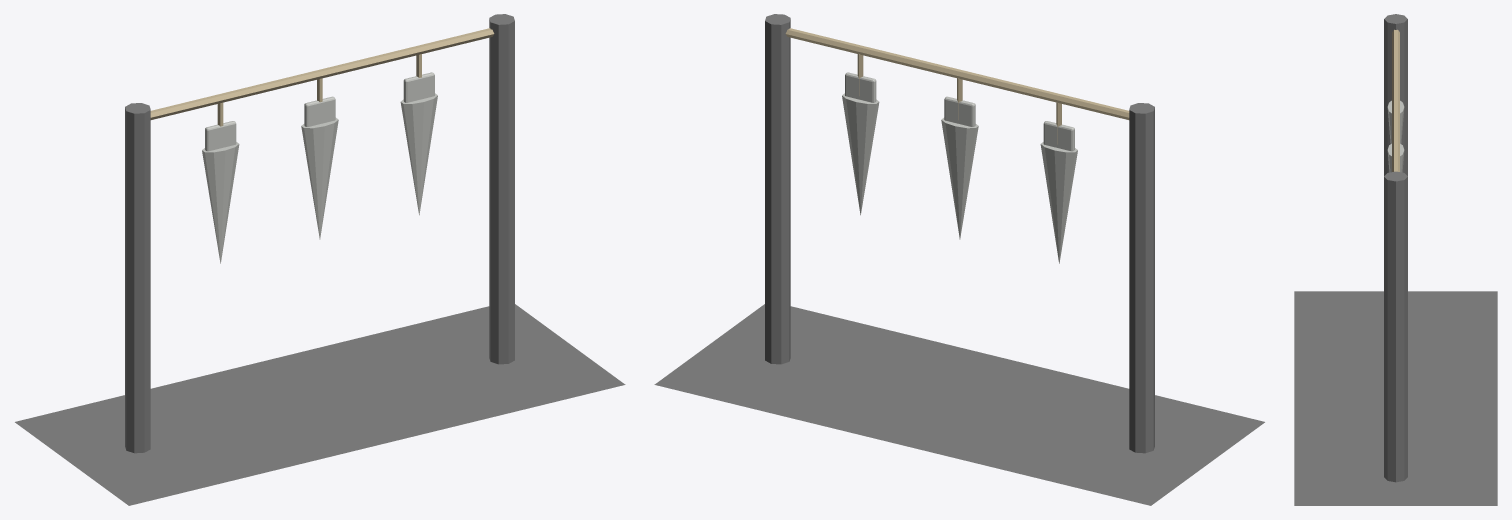
File: dried-fish.glb
3 renders of one model, left to right at view 1: azimuth 30°, elevation 25°; view 2: azimuth 150°, elevation 25°; view 3: azimuth 270°, elevation 25°, orthographic. The views are drawn at different scales.
Parts seen in each view (by area): view 1: ContactShadow, post, post.001, line, fishBody.001, fishBody, fishBody.002, fishTail.002, fishTail, fishTail.001; view 2: ContactShadow, post, post.001, line, fishBody.001, fishBody, fishBody.002, fishTail, fishTail.002, fishTail.001; view 3: ContactShadow, post.001, post, line, fishBody.
Boxes of the visible parts, x1,y1,x2,y2 form: ContactShadow: (15, 304, 625, 505); post: (125, 103, 150, 453); post.001: (489, 14, 514, 364); line: (150, 28, 494, 119); fishBody.001: (301, 117, 338, 239); fishBody: (202, 142, 239, 263); fishBody.002: (400, 93, 437, 215); fishTail.002: (403, 72, 434, 102); fishTail: (205, 121, 236, 151); fishTail.001: (304, 96, 335, 126); ContactShadow: (654, 304, 1264, 505); post: (1129, 103, 1154, 453); post.001: (765, 14, 790, 364); line: (785, 28, 1129, 119); fishBody.001: (941, 117, 978, 239); fishBody: (1040, 142, 1077, 263); fishBody.002: (842, 93, 879, 215); fishTail: (1043, 121, 1074, 151); fishTail.002: (845, 72, 876, 102); fishTail.001: (944, 96, 975, 126); ContactShadow: (1294, 291, 1497, 505); post.001: (1384, 171, 1407, 482); post: (1384, 14, 1407, 175); line: (1392, 29, 1399, 171); fishBody: (1387, 100, 1404, 143).
Bounding box in the file's own units: 1.5 × 1 × 0.6.
Materials: 5 (2 with a texture image).
